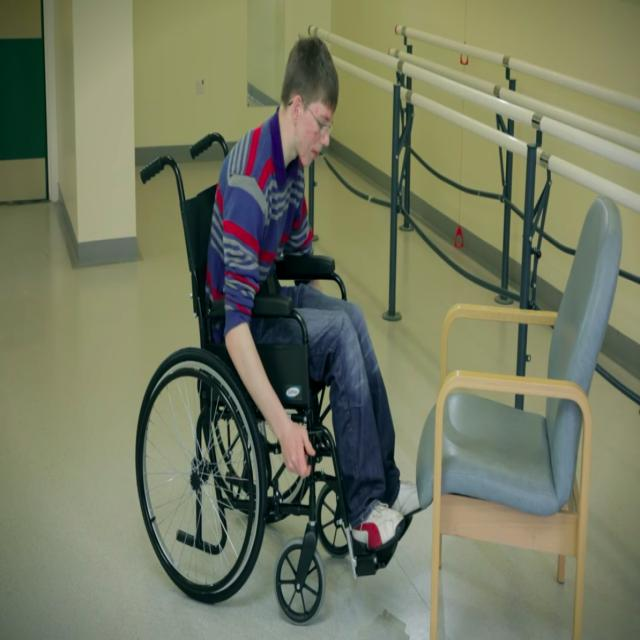wheelchairs: (139, 142, 381, 626)
